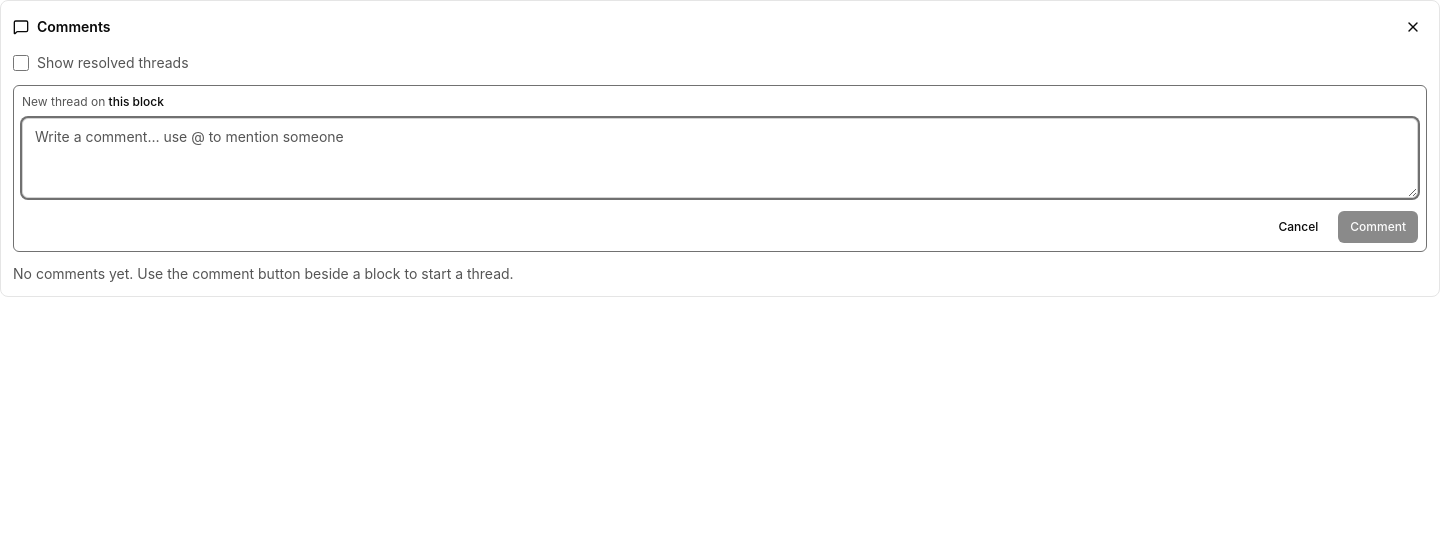
Test case: CommentsPanel › starts a thread on the chosen block and shows it at once
Type "Looks off" into the dropdown named "New comment". click: (720, 158)
box: x1=22 y1=118 x2=1418 y2=198
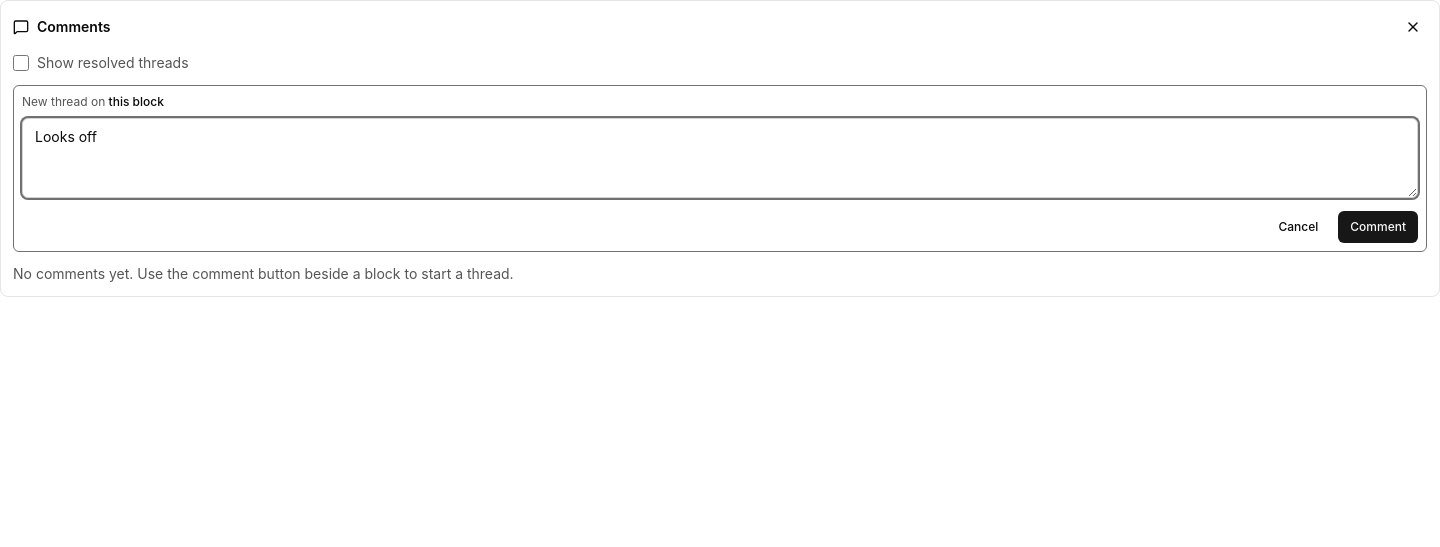
Click the button "Comment". click: (1378, 227)
box: x1=1338 y1=211 x2=1418 y2=243
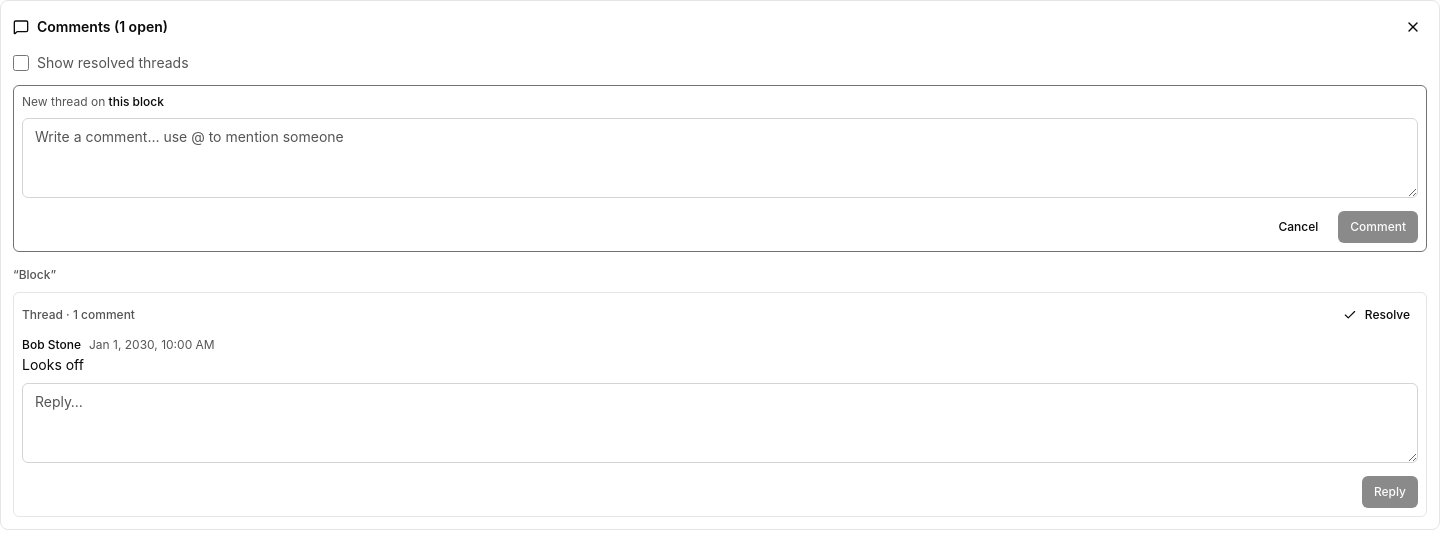
Now the text "Looks off" is shown, box x1=22 y1=356 x2=84 y2=373
